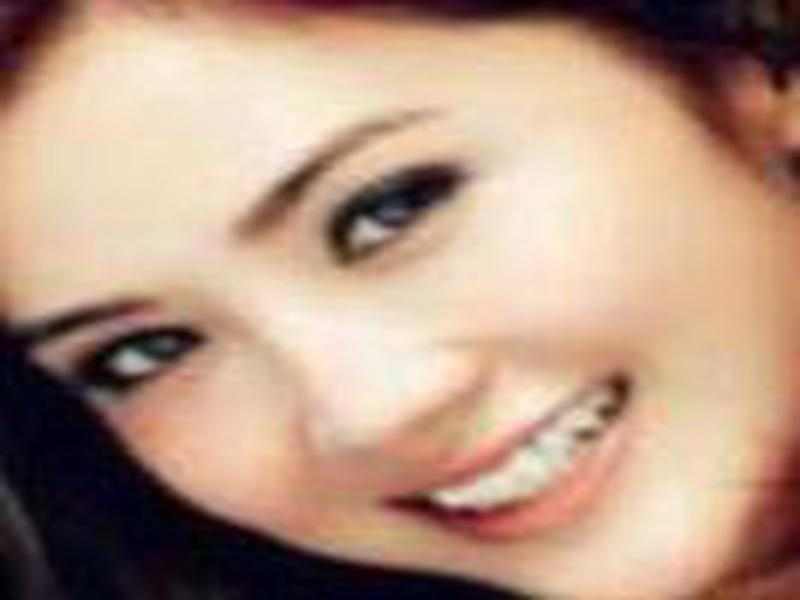without_mask: (4, 6, 793, 595)
